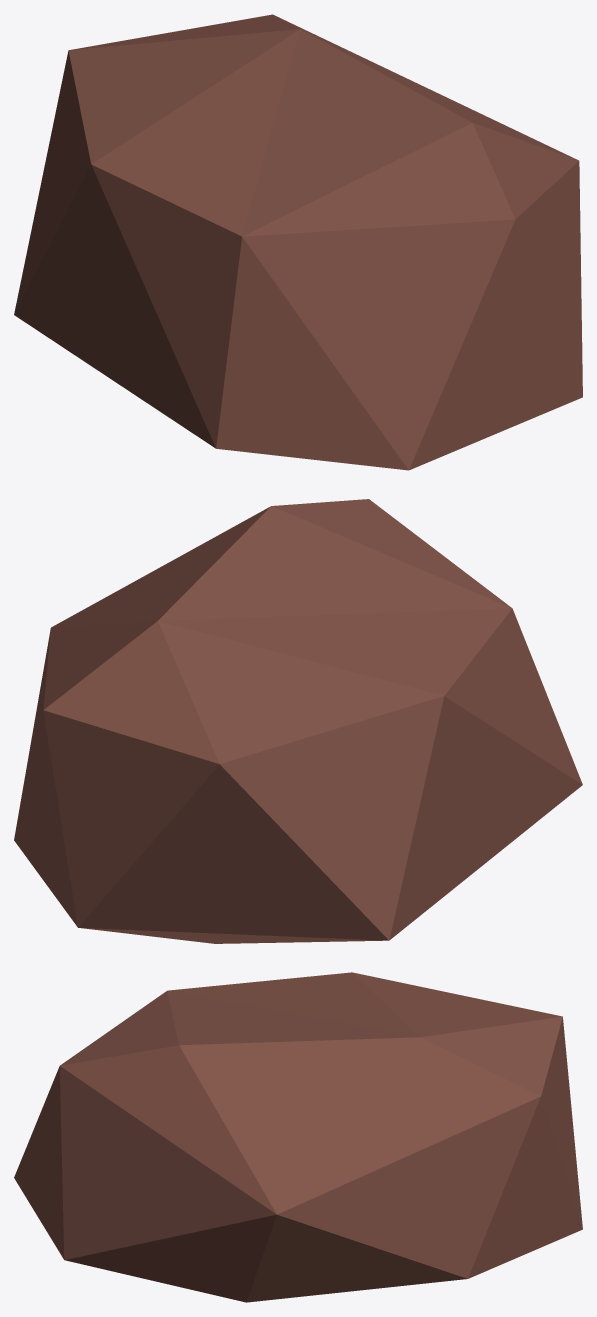
File: Rock8_tex.fbx
The picture shows the model from 3 angles, top to bottom: view 1: azimuth 30°, elevation 25°; view 2: azimuth 150°, elevation 25°; view 3: azimuth 270°, elevation 25°; orthographic projection. The views are drawn at different scales.
Parts seen in each view (by area): view 1: Rock8_tex; view 2: Rock8_tex; view 3: Rock8_tex.
Part boxes in pixels (bbox=[...]): Rock8_tex: bbox=[14, 14, 582, 470]; Rock8_tex: bbox=[14, 499, 582, 943]; Rock8_tex: bbox=[14, 972, 582, 1302].
Bounding box in the file's own units: 0.4844 × 0.3118 × 0.625.
